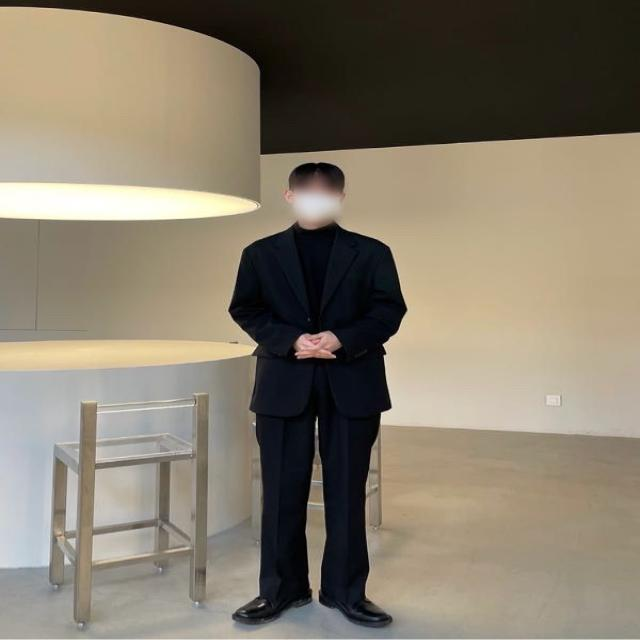blazer: (234, 222, 413, 418)
slacks: (253, 371, 377, 604)
